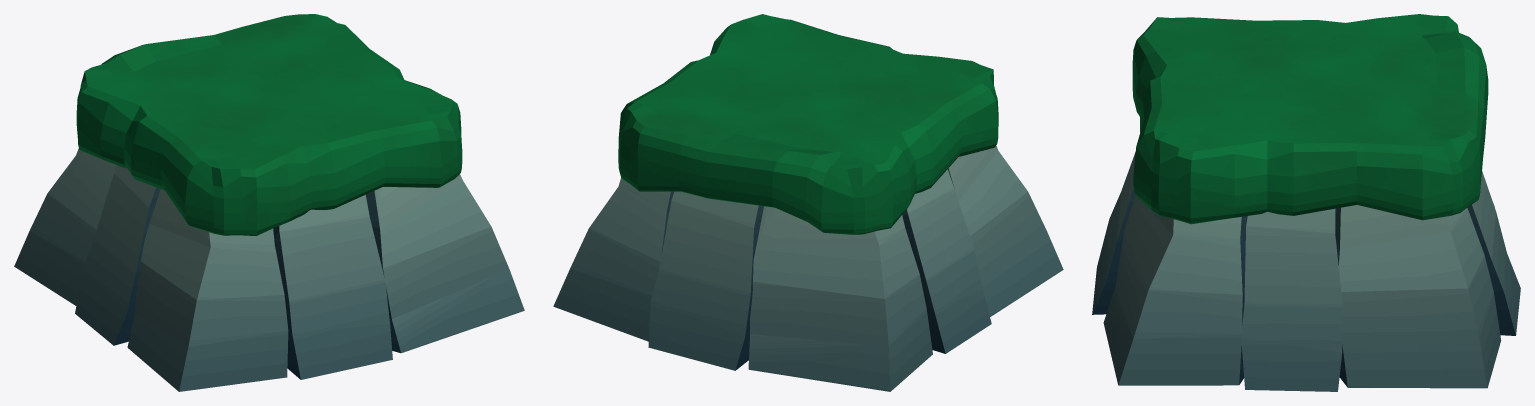
The model's file is fbx-grass-top-high.fbx.
3 renders of one model, left to right at view 1: azimuth 30°, elevation 25°; view 2: azimuth 150°, elevation 25°; view 3: azimuth 270°, elevation 25°, orthographic. The views are drawn at different scales.
Parts seen in each view (by area): view 1: mesh-rocks, mesh-top-grass; view 2: mesh-rocks, mesh-top-grass; view 3: mesh-rocks, mesh-top-grass.
Boxes of the visible parts, x1=… form: mesh-rocks: x1=14, y1=148, x2=524, y2=391; mesh-top-grass: x1=76, y1=14, x2=462, y2=235; mesh-rocks: x1=553, y1=145, x2=1063, y2=391; mesh-top-grass: x1=618, y1=14, x2=998, y2=234; mesh-rocks: x1=1092, y1=152, x2=1520, y2=391; mesh-top-grass: x1=1132, y1=14, x2=1488, y2=224.
Size of the model in its own units: 391 by 226 by 384.
